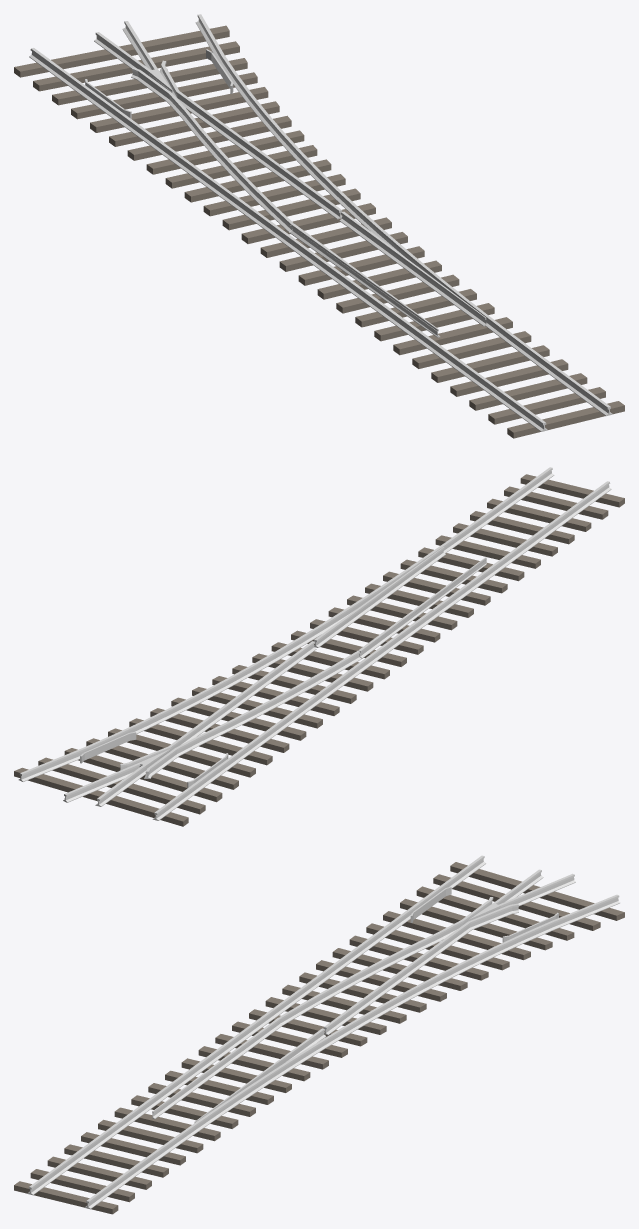
Rendered from rail_switch_right.fbx.
3 views of the same model, one above another, from view 1: azimuth 30°, elevation 25°; view 2: azimuth 150°, elevation 25°; view 3: azimuth 330°, elevation 25° (orthographic). The views are drawn at different scales.
Parts seen in each view (by area): view 1: rail_switch_right; view 2: rail_switch_right; view 3: rail_switch_right.
Boxes of the visible parts, x1,y1,x2,y2 form: rail_switch_right: (14,14,624,438); rail_switch_right: (14,467,624,826); rail_switch_right: (14,855,624,1214).
Bounding box in the file's own units: 461 × 31 × 2044.
